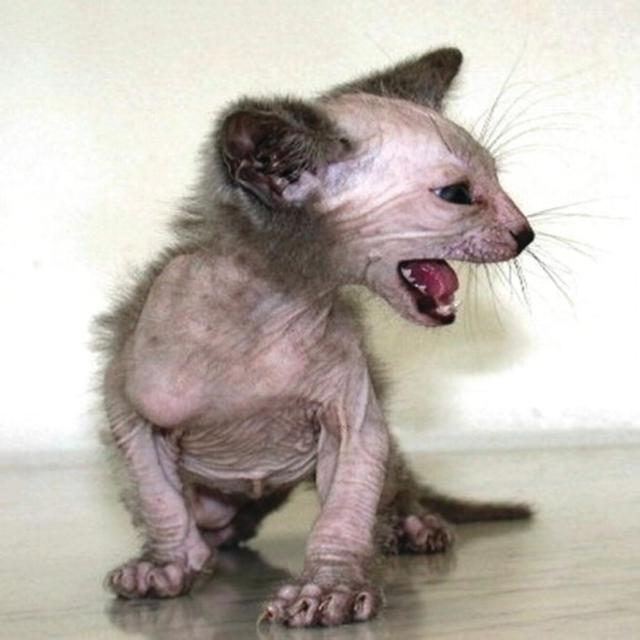cat-hairloss: (338, 103, 422, 233), (162, 270, 237, 402), (124, 422, 184, 574), (257, 302, 327, 395), (325, 416, 366, 561), (210, 414, 301, 476), (430, 212, 462, 246)
